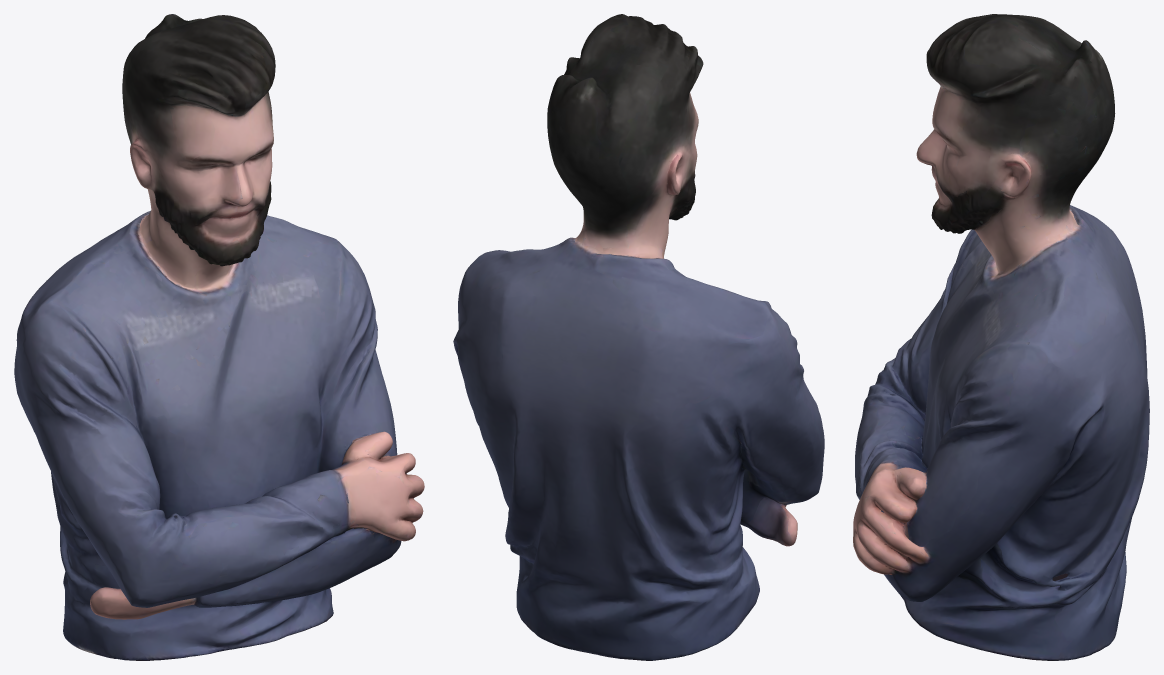
File: trellis2_1779527147390_1680224475.glb
3 renders of one model, left to right at view 1: azimuth 30°, elevation 25°; view 2: azimuth 150°, elevation 25°; view 3: azimuth 270°, elevation 25°, orthographic. The views are drawn at different scales.
Visible parts, largest first — view 1: world; view 2: world; view 3: world.
Part boxes in pixels (box(x1,y1,x2,y2)): world: box(14, 14, 424, 660); world: box(453, 14, 824, 660); world: box(853, 14, 1149, 660).
Size of the model in its own units: 0.5739 by 1 by 0.4424.
1 material, 1 textured.
